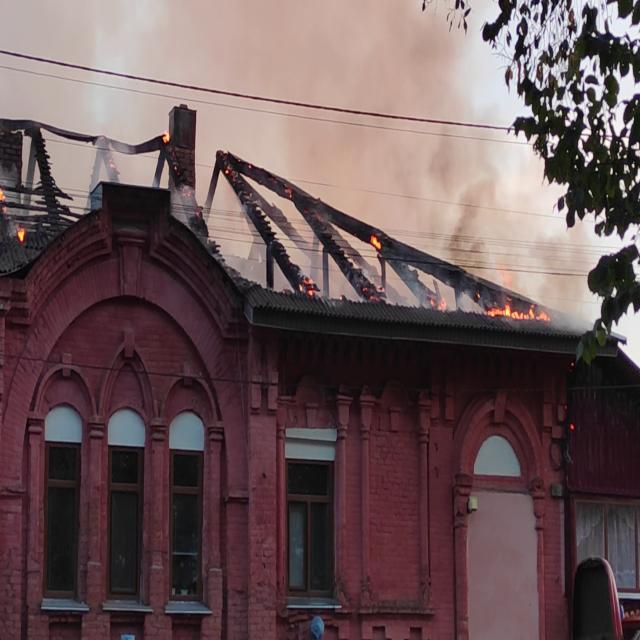fire: (478, 280, 561, 330), (160, 127, 192, 205), (0, 183, 30, 247), (367, 225, 403, 272)
smoke: (401, 76, 514, 225)
